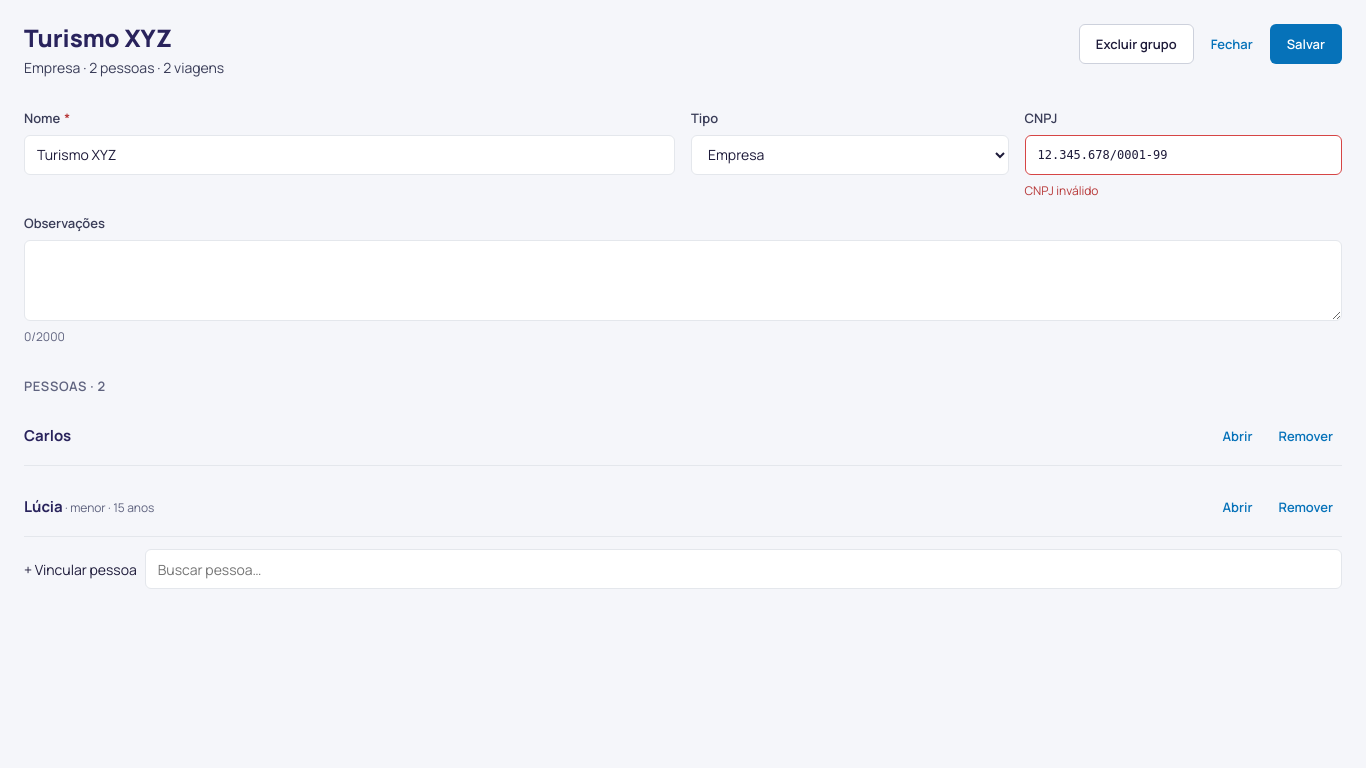
trocar tipo para família desabilita o CNPJ
Expected: the field showing "12.345.678/0001-99" is shown, [1024,135,1342,175]
Select "Família" in the dropdown labelled "Tipo" at (850, 155), box [691,135,1008,175]
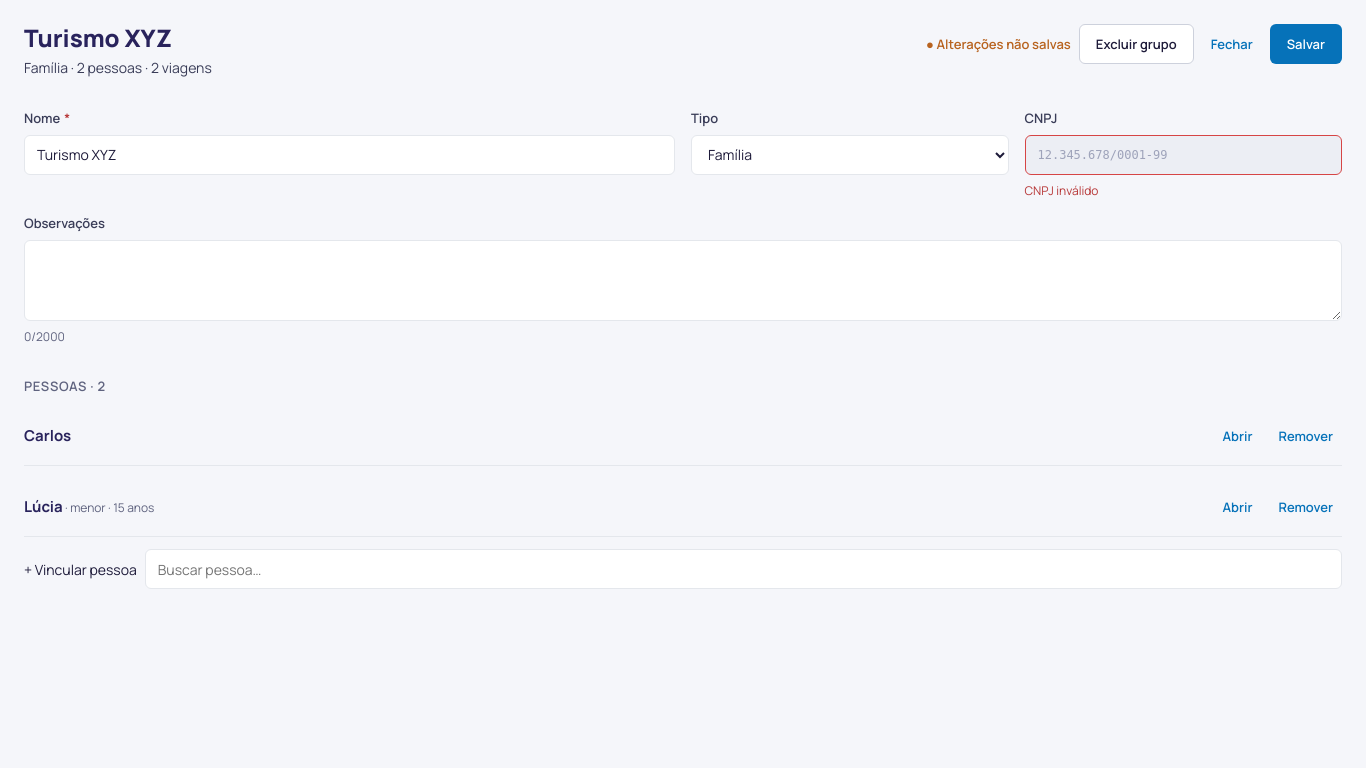
Expected: the field showing "12.345.678/0001-99" is disabled, [1024,135,1342,175]
